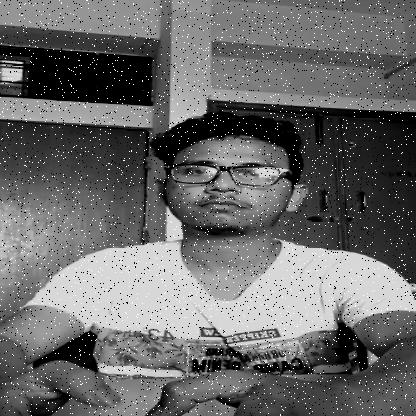Normal: (157, 126, 306, 240)
